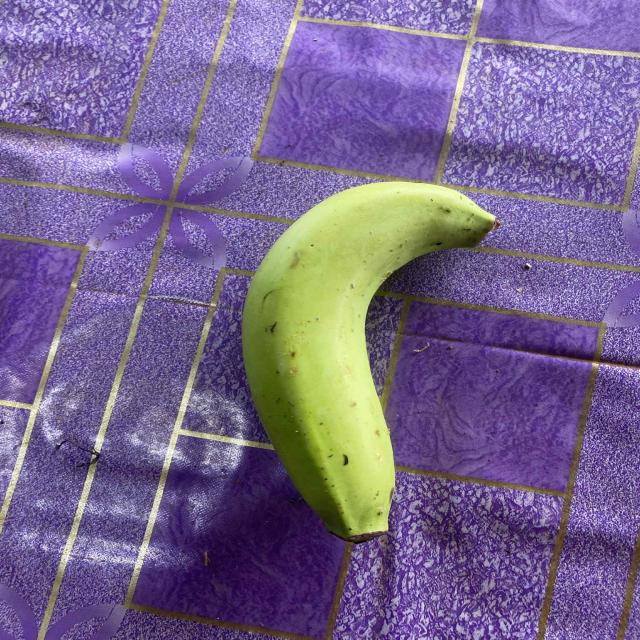Raw: (154, 144, 609, 582)
